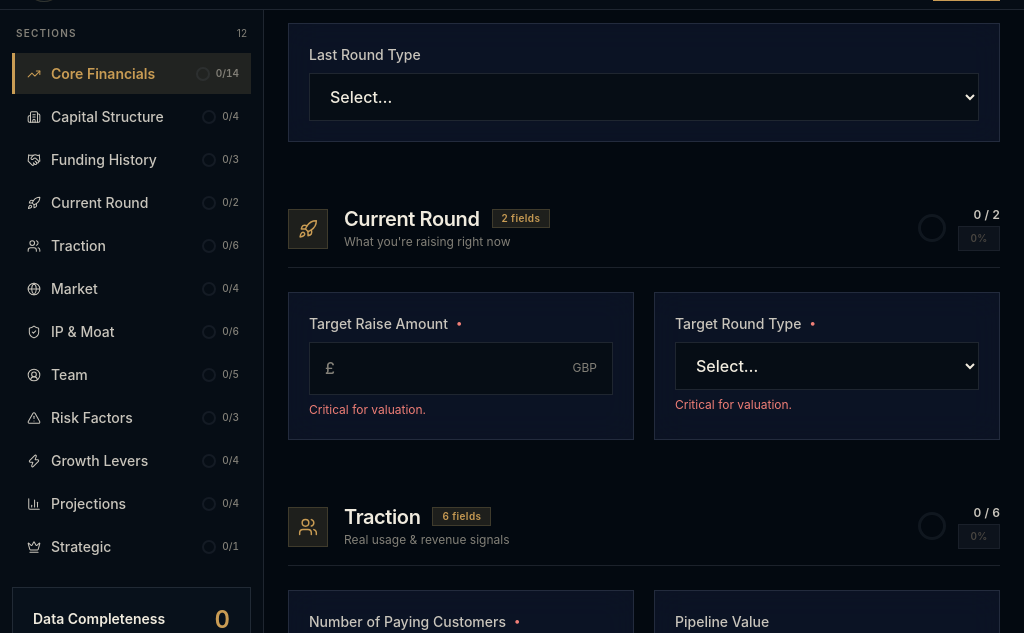
Test: IntakeForm — Q5 metamorphic › renders the Seed supplementary block when f23 = Seed
(page scrolled)
Select "Seed" in the dropdown labelled "Target Round Type". click: (827, 366)
box: [675,342,979,390]
(page scrolled)
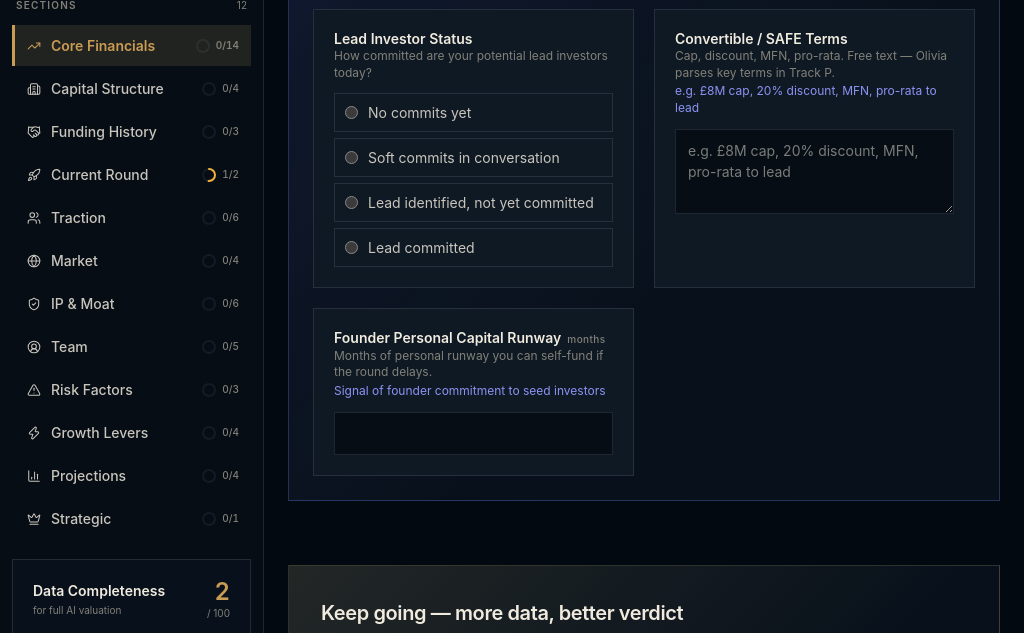
Expected: the text "Lead Investor Status" is shown, [334,30,472,47]
Expected: the text "Convertible / SAFE Terms" is shown, [675,30,848,47]
Expected: the text "Founder Personal Capital Runwaymonths" is shown, [334,329,613,348]
